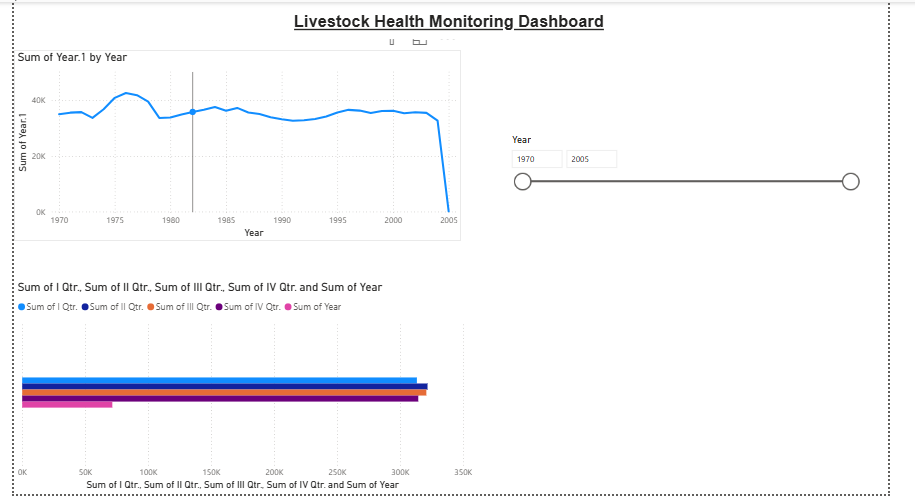

What the dashboard file says about the page in this screenshot:
{"tool":"powerbi","page":{"name":"Page 1","canvas":[1280,720],"ordinal":0},"visuals":[{"type":"lineChart","fields":{"Y":["Sum(livestock_cleaned.Year.1)"],"Category":["livestock_cleaned.Year"]},"box":[0,70.2,654.1,279.5],"z":0},{"type":"clusteredBarChart","fields":{"Y":["Sum(livestock_cleaned.I Qtr.)","Sum(livestock_cleaned.II Qtr.)","Sum(livestock_cleaned.III Qtr.)","Sum(livestock_cleaned.IV Qtr.)","Sum(livestock_cleaned.Year)"]},"box":[0,406.8,676.1,313.2],"z":1},{"type":"slicer","fields":{"Values":["livestock_cleaned.Year"]},"box":[715.6,188.8,529.8,412.7],"z":2},{"type":"textbox","box":[95.1,10.2,1082.9,43.9],"z":3}]}

Visuals, with their boxes in screenshot pixels (x1, y1, x2, y2):
lineChart - Sum(livestock_cleaned.Year.1) x livestock_cleaned.Year: detection(10, 26, 472, 223)
clusteredBarChart - Sum(livestock_cleaned.I Qtr.) x Sum(livestock_cleaned.II Qtr.): detection(10, 264, 488, 485)
slicer - livestock_cleaned.Year: detection(516, 110, 890, 402)
textbox: detection(77, 0, 843, 14)
